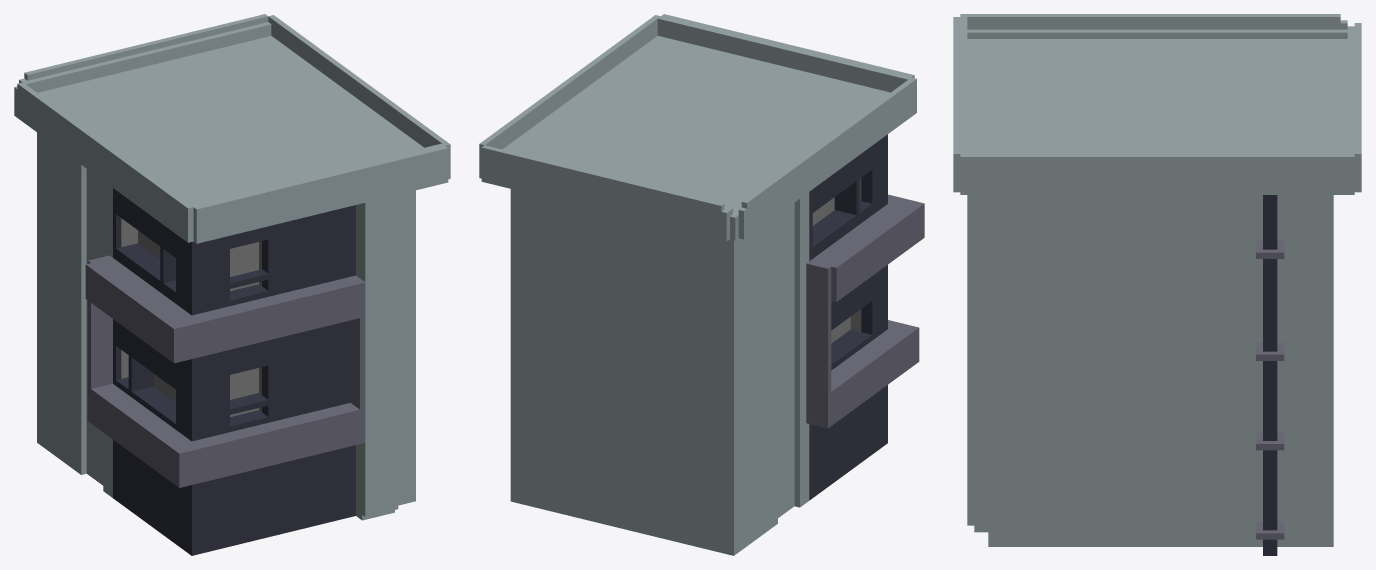
The model's file is Building003(2).obj.
3 views of the same model, side by side, from view 1: azimuth 30°, elevation 25°; view 2: azimuth 150°, elevation 25°; view 3: azimuth 270°, elevation 25° (orthographic). The views are drawn at different scales.
Size of the model in its own units: 5 by 6.3 by 5.8.
Materials: 1 (1 with a texture image).
